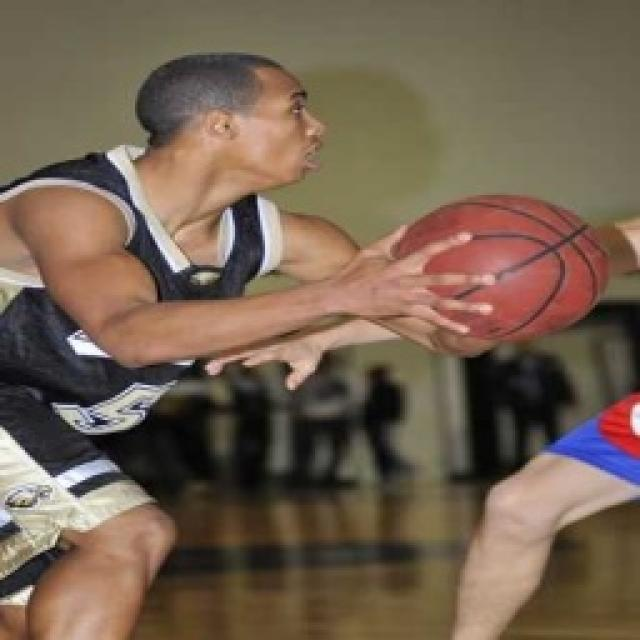rim: (393, 194, 609, 342)
